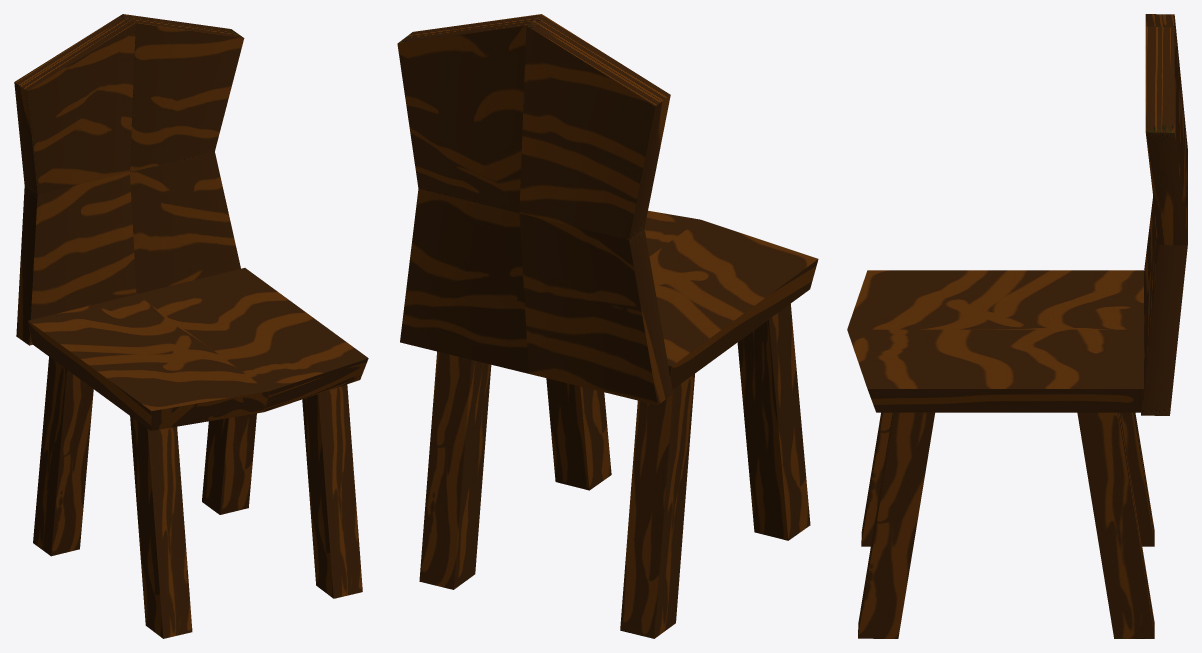
File: Chair_Export.FBX
3 views of the same model, side by side, from view 1: azimuth 30°, elevation 25°; view 2: azimuth 150°, elevation 25°; view 3: azimuth 270°, elevation 25° (orthographic). The views are drawn at different scales.
Visible parts, largest first — view 1: Chair; view 2: Chair; view 3: Chair.
Boxes of the visible parts, bbox=[...] form: Chair: bbox=[14, 14, 368, 638]; Chair: bbox=[397, 14, 818, 638]; Chair: bbox=[847, 14, 1187, 638].
Bounding box in the file's own units: 27.89 × 61.23 × 33.87.
Materials: 1 (1 with a texture image).
